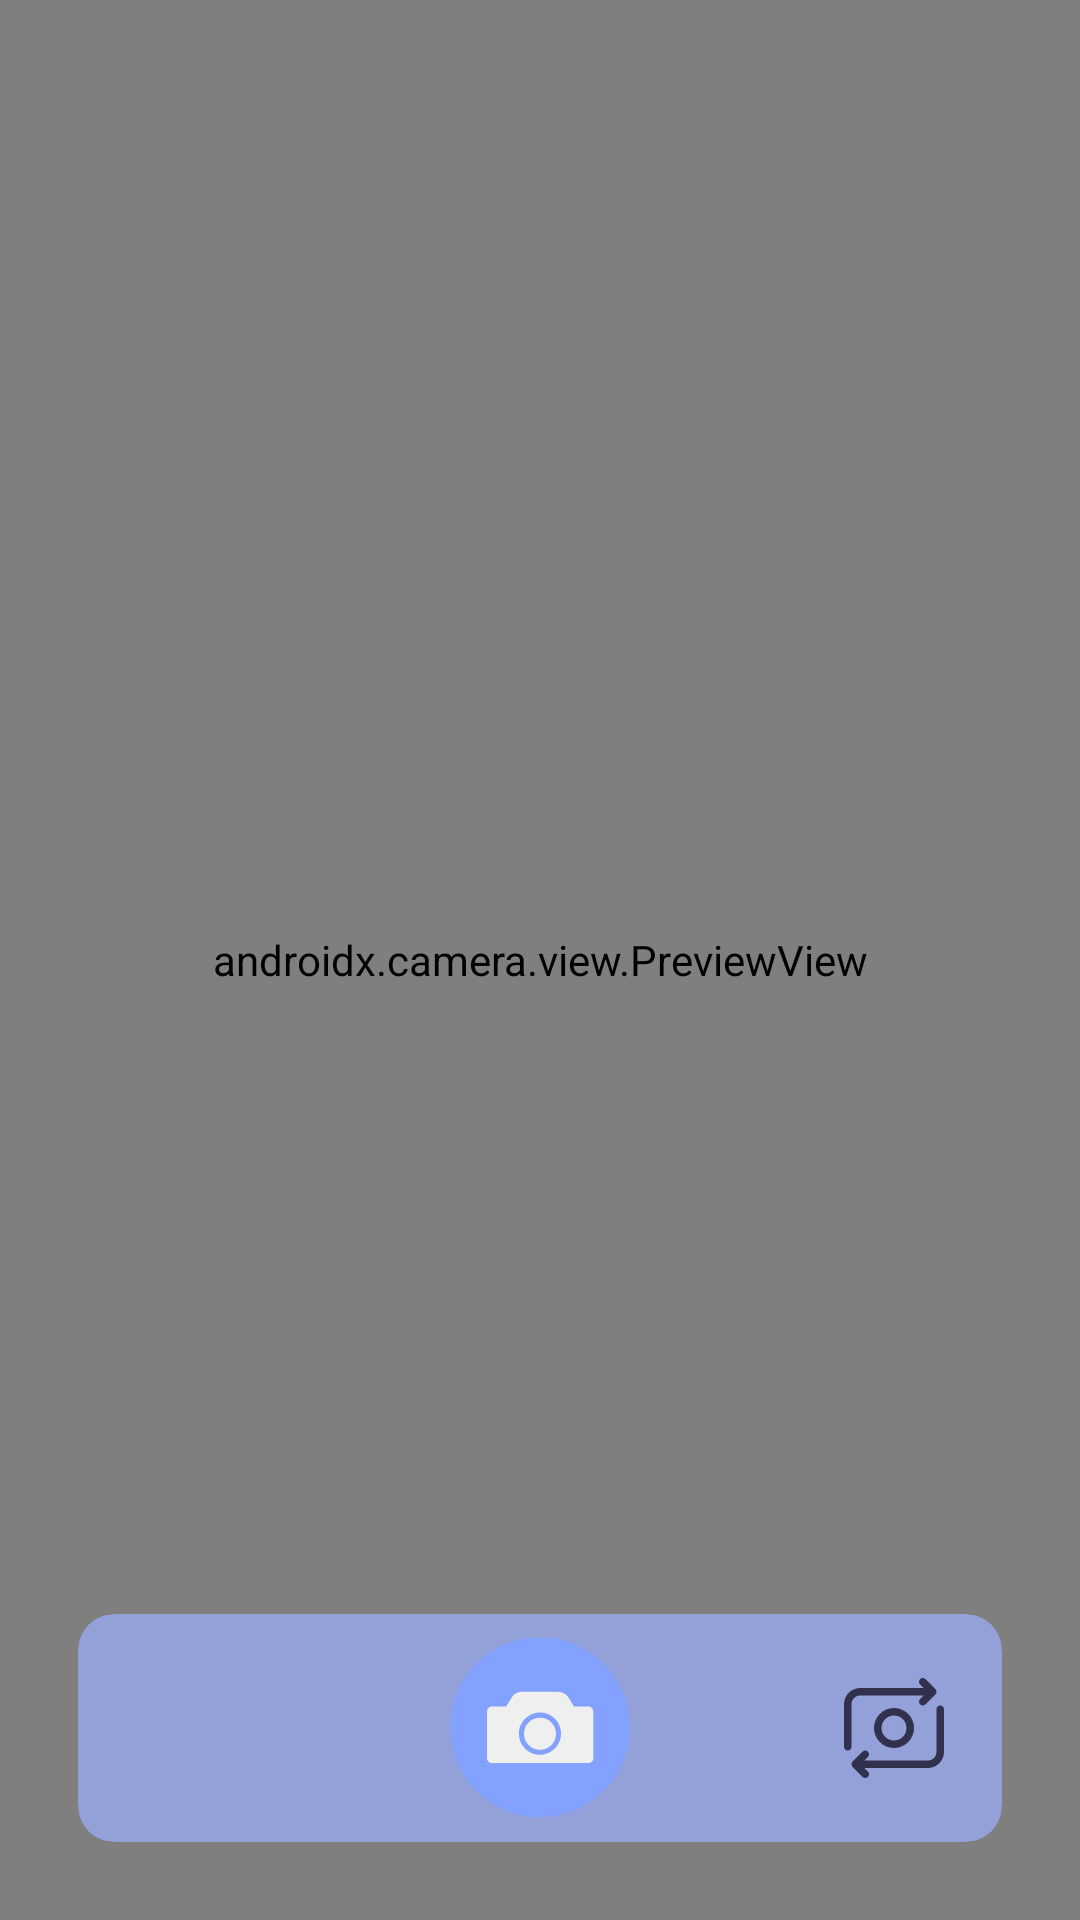

Icons on this 1080*1920 Android screen, each with its box as [x1,y1,x2,y2]:
camera switch: [844,1678,944,1778]
capture: [450,1638,630,1817]
